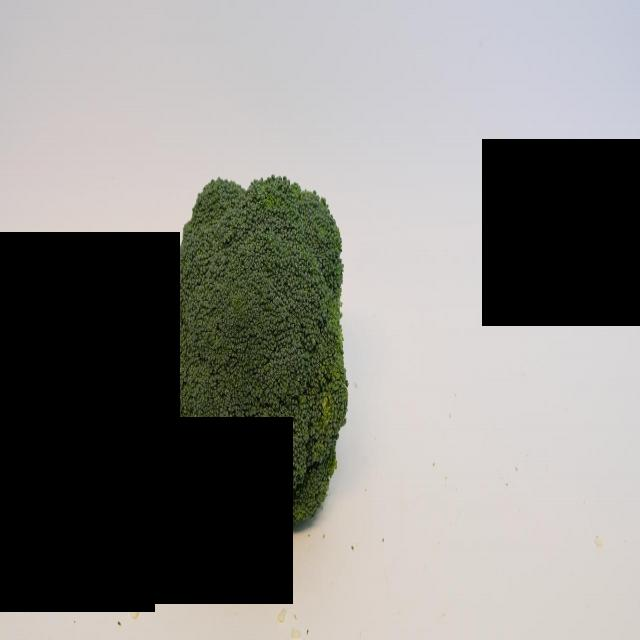broccoli: (152, 158, 354, 572)
